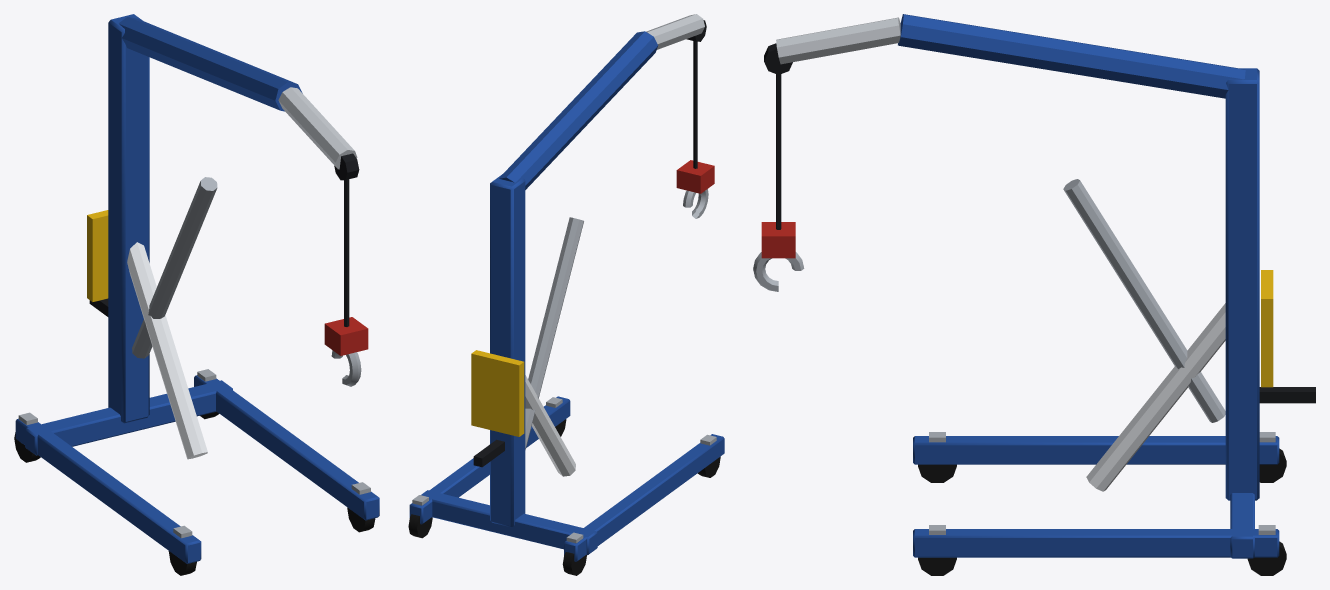
Rendered from hangartool_engine_hoist.glb.
3 renders of one model, left to right at view 1: azimuth 30°, elevation 25°; view 2: azimuth 150°, elevation 25°; view 3: azimuth 270°, elevation 25°, orthographic. The views are drawn at different scales.
Visible parts, largest first — view 1: hangartool_engine_hoist; view 2: hangartool_engine_hoist; view 3: hangartool_engine_hoist.
Boxes of the visible parts, x1,y1,x2,y2 form: hangartool_engine_hoist: [14, 14, 379, 575]; hangartool_engine_hoist: [408, 14, 724, 575]; hangartool_engine_hoist: [753, 14, 1315, 575].
Size of the model in its own units: 1 by 2.31 by 2.31.
